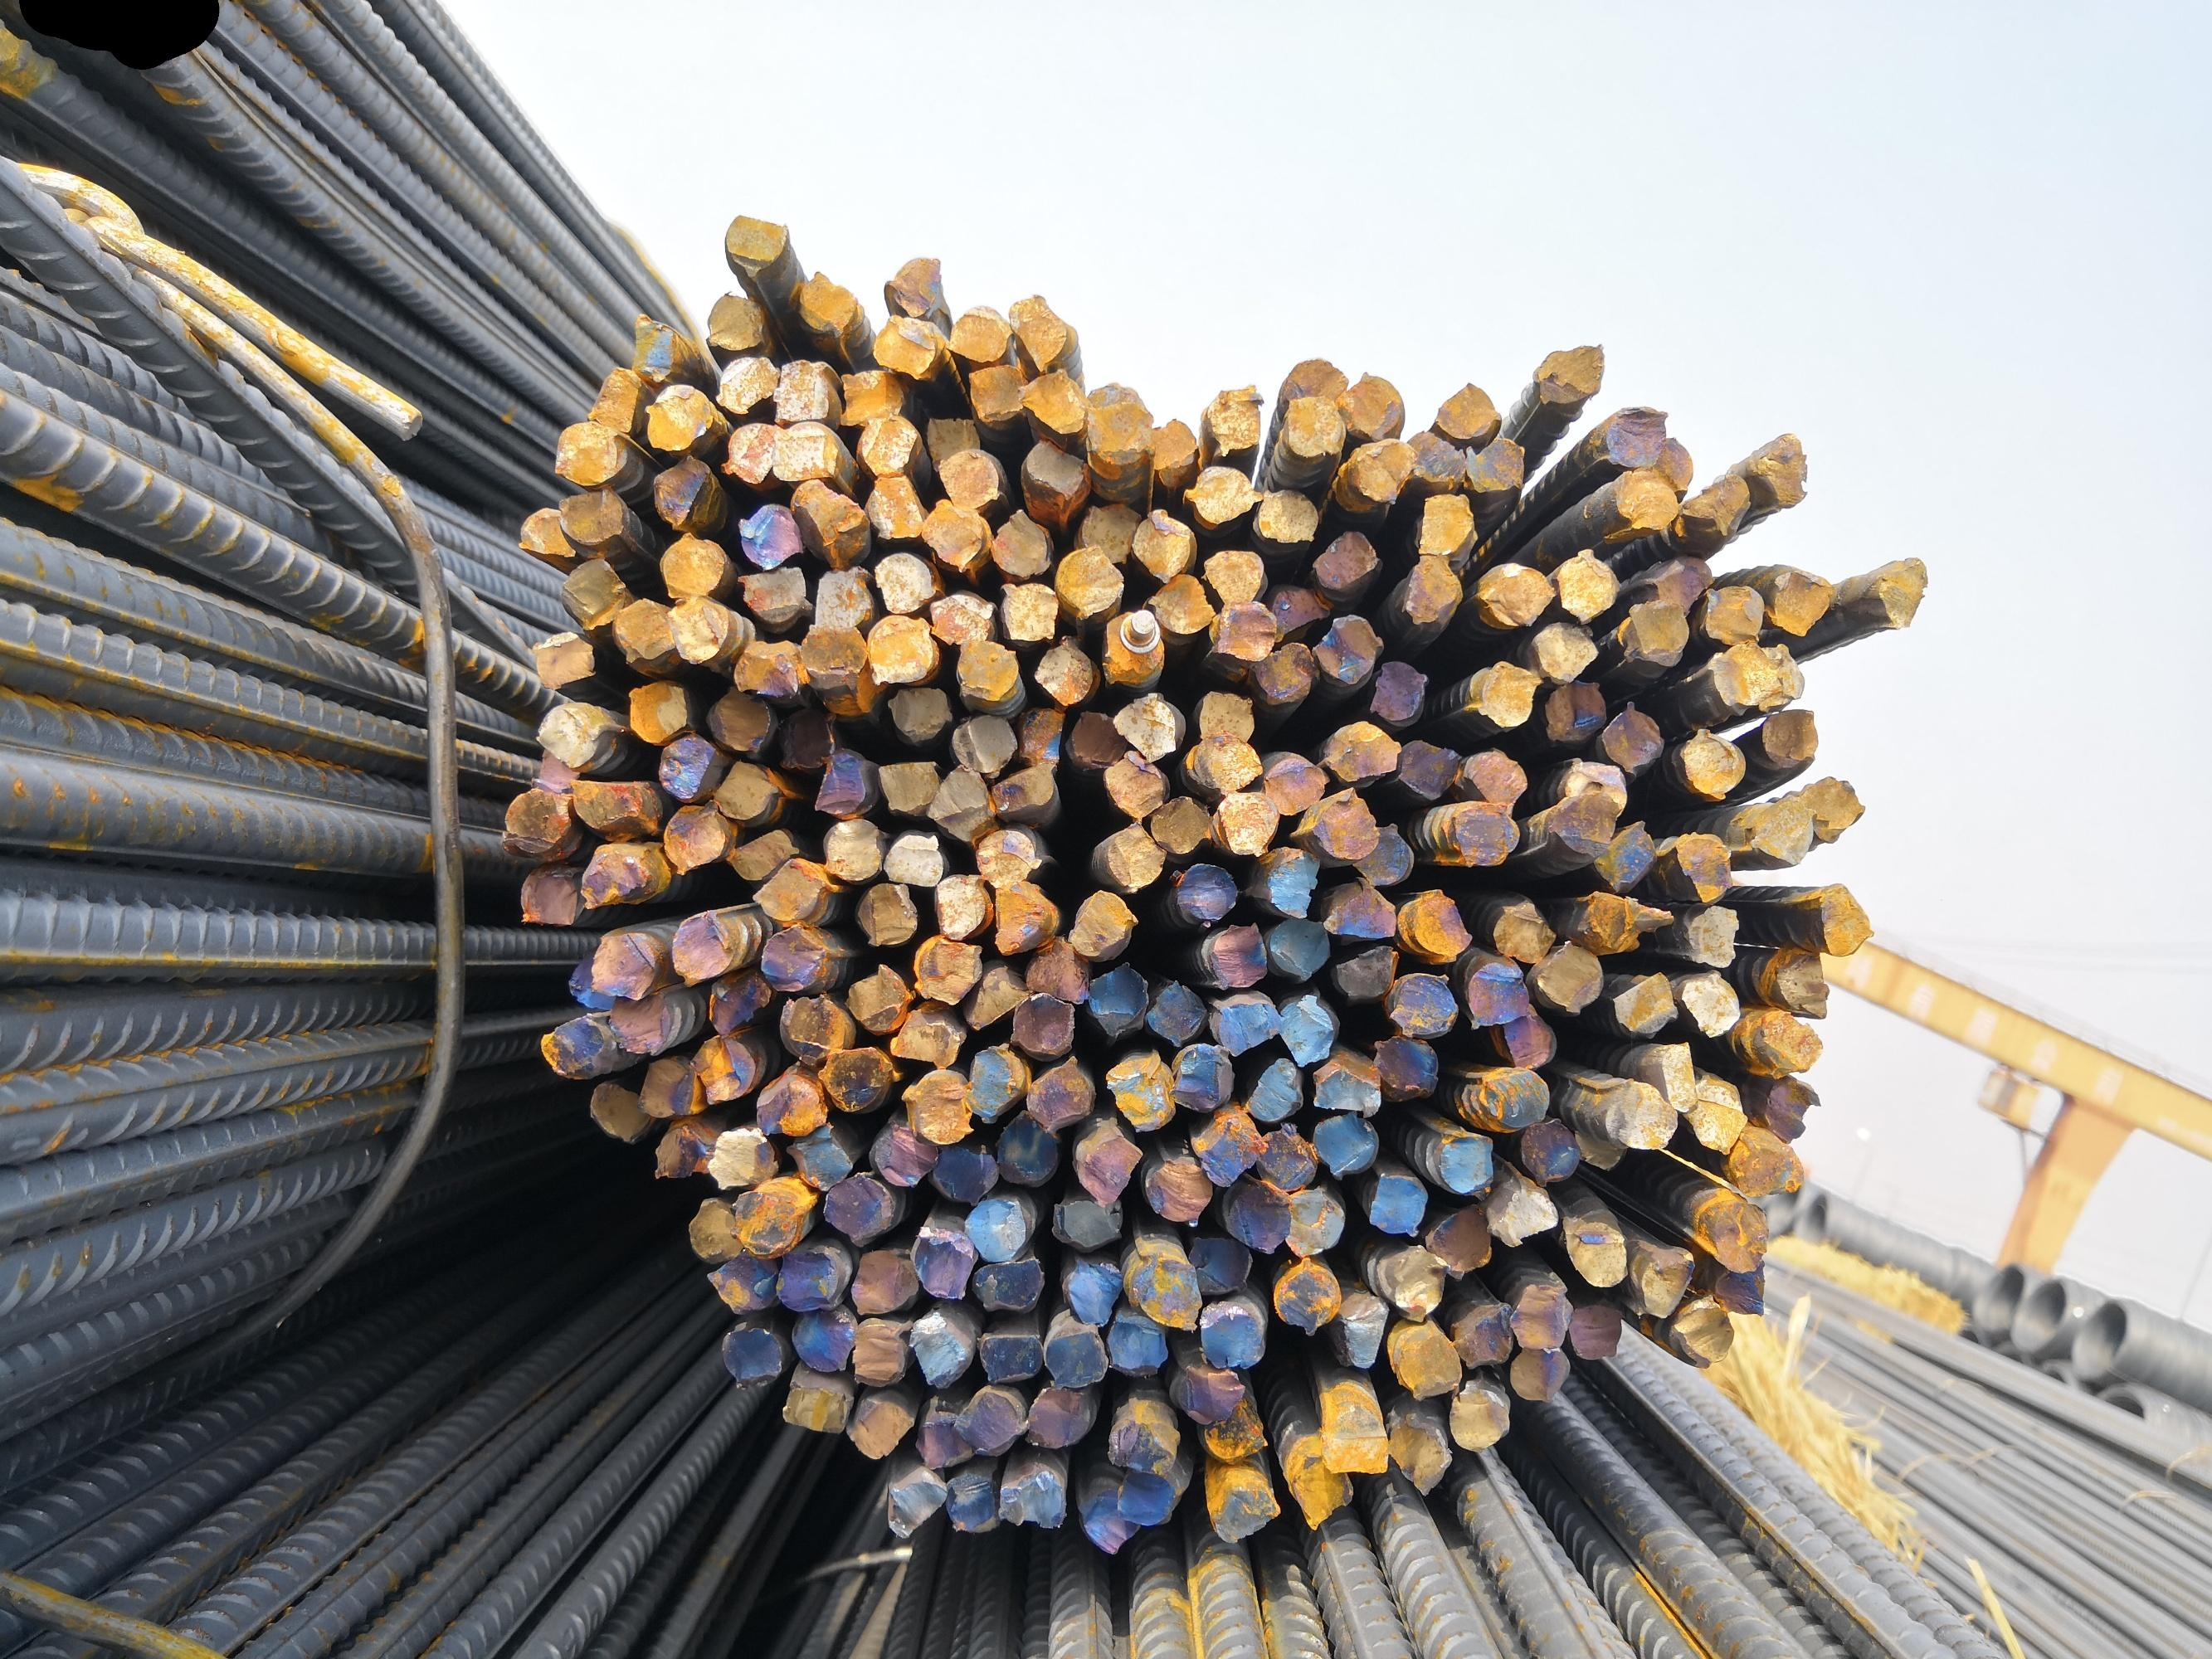bar: (786, 479, 870, 568), (1130, 1243, 1201, 1331), (1081, 380, 1154, 465), (751, 854, 830, 929), (812, 1037, 891, 1112), (1316, 1399, 1391, 1478), (1598, 1077, 1679, 1150), (1581, 887, 1668, 951), (1595, 399, 1670, 474), (1682, 472, 1755, 549), (1557, 1211, 1628, 1290), (929, 763, 999, 843), (887, 1002, 967, 1072), (1105, 1049, 1173, 1131), (1386, 1412, 1452, 1495), (1544, 791, 1623, 861), (992, 1105, 1058, 1187), (1426, 1199, 1492, 1281), (1686, 1073, 1752, 1155), (640, 382, 713, 455), (910, 931, 983, 1004), (729, 1183, 802, 1256), (819, 1171, 892, 1244), (901, 1066, 973, 1141), (1705, 638, 1780, 709), (556, 556, 626, 633), (1023, 1053, 1093, 1129), (1727, 1131, 1804, 1201), (1597, 701, 1666, 777), (1590, 816, 1659, 892), (1222, 1176, 1290, 1255), (1313, 786, 1381, 864), (1745, 791, 1813, 870), (1182, 464, 1262, 530), (919, 495, 985, 575), (1288, 1448, 1354, 1528), (1750, 430, 1816, 511), (1075, 1126, 1140, 1208), (1469, 1065, 1551, 1129), (1130, 504, 1192, 587), (955, 957, 1028, 1028), (1449, 798, 1520, 871), (1313, 610, 1384, 683), (1055, 542, 1124, 617), (1482, 558, 1557, 627), (657, 528, 725, 605), (1666, 1295, 1734, 1371), (551, 416, 622, 488), (732, 502, 804, 573), (533, 701, 605, 772), (779, 992, 851, 1063), (1065, 885, 1137, 957), (659, 803, 729, 877), (847, 1246, 920, 1316), (1632, 1237, 1693, 1321), (866, 612, 934, 687), (1700, 1201, 1768, 1276), (1537, 939, 1605, 1014), (1403, 887, 1471, 962), (1100, 819, 1168, 894), (1532, 342, 1607, 410), (1274, 1260, 1340, 1337), (1006, 295, 1069, 375), (1199, 382, 1262, 462), (706, 1246, 777, 1316), (1333, 369, 1405, 439), (1074, 495, 1142, 568), (537, 1012, 610, 1080), (584, 1073, 652, 1147), (845, 962, 913, 1035), (1609, 969, 1682, 1037), (1768, 565, 1835, 638), (580, 842, 655, 908), (499, 788, 573, 854), (995, 1467, 1070, 1534), (1100, 744, 1166, 819), (734, 636, 811, 701), (1098, 606, 1163, 683), (760, 922, 830, 992), (1021, 1380, 1091, 1450), (868, 1121, 938, 1190), (1145, 1155, 1215, 1225), (1764, 946, 1834, 1016), (1388, 967, 1457, 1037), (702, 685, 770, 756), (844, 1392, 915, 1460), (1194, 1398, 1265, 1466), (1112, 690, 1180, 762), (1367, 1032, 1440, 1098), (1799, 772, 1865, 845), (1679, 727, 1745, 800), (647, 453, 711, 528), (1327, 716, 1401, 781), (1813, 880, 1876, 957), (1321, 880, 1401, 939), (722, 211, 790, 281), (872, 312, 940, 382), (955, 634, 1023, 704), (783, 1122, 851, 1192), (962, 1195, 1030, 1265), (1175, 1358, 1245, 1425), (1754, 1007, 1822, 1077), (1473, 659, 1541, 728), (797, 622, 868, 688), (587, 931, 659, 997), (706, 1126, 777, 1192), (1281, 1187, 1346, 1260), (1555, 547, 1618, 622), (1032, 631, 1093, 708), (1391, 1244, 1450, 1323), (955, 1387, 1023, 1455), (1349, 434, 1417, 502), (1020, 437, 1089, 504), (788, 1304, 854, 1373), (931, 1138, 1001, 1204), (1194, 1121, 1264, 1187), (1612, 465, 1679, 535), (1872, 554, 1930, 634), (757, 1073, 828, 1138), (1677, 965, 1741, 1037), (1466, 958, 1530, 1030), (1281, 390, 1346, 462), (913, 1229, 976, 1302), (1060, 1253, 1123, 1326), (1670, 828, 1733, 901), (988, 504, 1048, 580), (1020, 368, 1086, 436), (708, 758, 776, 824), (689, 1037, 755, 1105), (704, 969, 772, 1035), (1311, 1108, 1377, 1176), (1490, 896, 1557, 964), (1532, 619, 1598, 687), (554, 484, 624, 549), (1398, 1330, 1462, 1399), (1508, 1281, 1572, 1351), (662, 592, 725, 664), (1145, 978, 1208, 1049), (1393, 737, 1464, 800), (931, 870, 992, 943), (990, 878, 1051, 951), (1400, 552, 1461, 626), (737, 563, 812, 622), (969, 1255, 1044, 1314), (1088, 962, 1147, 1037), (568, 772, 645, 829), (671, 910, 729, 986), (1023, 936, 1089, 1002), (713, 352, 781, 416), (770, 418, 838, 483), (610, 598, 675, 666), (950, 713, 1018, 777), (774, 1248, 842, 1312), (1075, 1486, 1140, 1554), (1198, 1302, 1265, 1366), (1489, 1182, 1557, 1246), (1250, 1126, 1318, 1190), (1206, 922, 1271, 990), (1215, 791, 1279, 859), (1260, 751, 1328, 816), (1461, 744, 1529, 809), (835, 364, 905, 427), (1449, 1384, 1511, 1453), (1517, 1117, 1579, 1187), (1168, 861, 1238, 924), (1274, 993, 1335, 1065), (1192, 732, 1264, 793), (1243, 1054, 1302, 1127), (586, 362, 643, 437), (516, 864, 582, 929), (718, 1324, 784, 1389), (1403, 425, 1469, 490), (624, 676, 687, 744), (605, 992, 673, 1054), (884, 1469, 947, 1537), (1006, 992, 1074, 1054), (1267, 913, 1330, 981), (1248, 640, 1316, 702), (1433, 378, 1501, 441), (945, 301, 1014, 362), (858, 880, 919, 950), (1168, 1040, 1229, 1110), (1143, 572, 1213, 633), (1415, 488, 1476, 558), (1645, 552, 1715, 613), (964, 1044, 1018, 1122), (1309, 1060, 1382, 1117), (818, 817, 882, 882), (1211, 598, 1276, 662), (1700, 582, 1764, 647), (882, 253, 945, 319), (809, 563, 872, 629), (532, 629, 598, 692), (887, 680, 953, 742), (1185, 1234, 1252, 1297), (1147, 793, 1213, 856), (1539, 678, 1605, 741), (1211, 997, 1283, 1054), (906, 1314, 960, 1389), (1276, 354, 1351, 408), (872, 551, 936, 613), (1462, 432, 1525, 497), (636, 1053, 697, 1119), (1368, 1173, 1429, 1239), (1560, 755, 1626, 816), (865, 474, 924, 542), (654, 732, 713, 800), (973, 826, 1041, 885), (1105, 1417, 1173, 1476), (1260, 850, 1320, 918), (687, 1195, 744, 1265), (727, 828, 800, 882), (795, 270, 858, 333), (938, 448, 1001, 511), (995, 579, 1058, 641), (962, 362, 1027, 423), (1353, 819, 1414, 884), (1639, 432, 1700, 497), (772, 359, 831, 425), (927, 587, 994, 647), (1213, 1485, 1279, 1544), (1048, 1195, 1123, 1248), (1339, 1295, 1391, 1370), (1499, 1000, 1557, 1068), (1313, 528, 1381, 586), (1761, 702, 1818, 770), (647, 1126, 718, 1180), (706, 291, 767, 354), (781, 1382, 854, 1434), (1107, 1316, 1168, 1378), (1450, 1305, 1513, 1366), (1367, 657, 1428, 720), (720, 418, 779, 483), (1041, 1330, 1105, 1389), (1436, 1131, 1496, 1195), (1253, 484, 1318, 544), (1332, 943, 1398, 1000), (814, 748, 870, 816), (988, 760, 1056, 816), (628, 310, 682, 380), (1116, 1466, 1177, 1527), (943, 1473, 1002, 1535), (1764, 1075, 1822, 1140), (1684, 903, 1741, 967), (851, 1321, 905, 1389), (1654, 1039, 1703, 1114), (1204, 545, 1265, 605), (776, 708, 833, 770), (1510, 1344, 1572, 1401), (1712, 1255, 1769, 1317), (980, 1330, 1046, 1384), (1147, 415, 1198, 484), (1630, 596, 1689, 655), (856, 415, 917, 472), (915, 1410, 973, 1471), (1757, 640, 1806, 711), (1265, 582, 1330, 636), (882, 829, 941, 887), (516, 504, 577, 559), (1194, 688, 1257, 742), (879, 756, 936, 814), (1567, 1302, 1623, 1361), (1072, 706, 1126, 767), (565, 946, 614, 1012), (924, 415, 980, 469), (1016, 701, 1062, 765), (526, 742, 582, 793), (1571, 1127, 1626, 1175)
